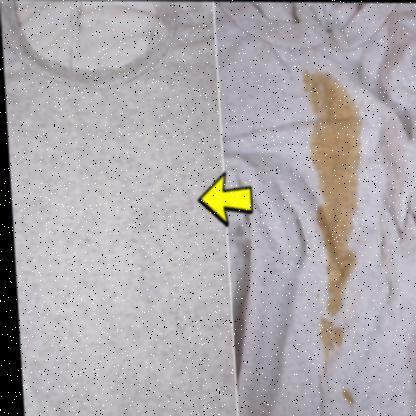coffee: (312, 83, 359, 235), (329, 243, 342, 302)
